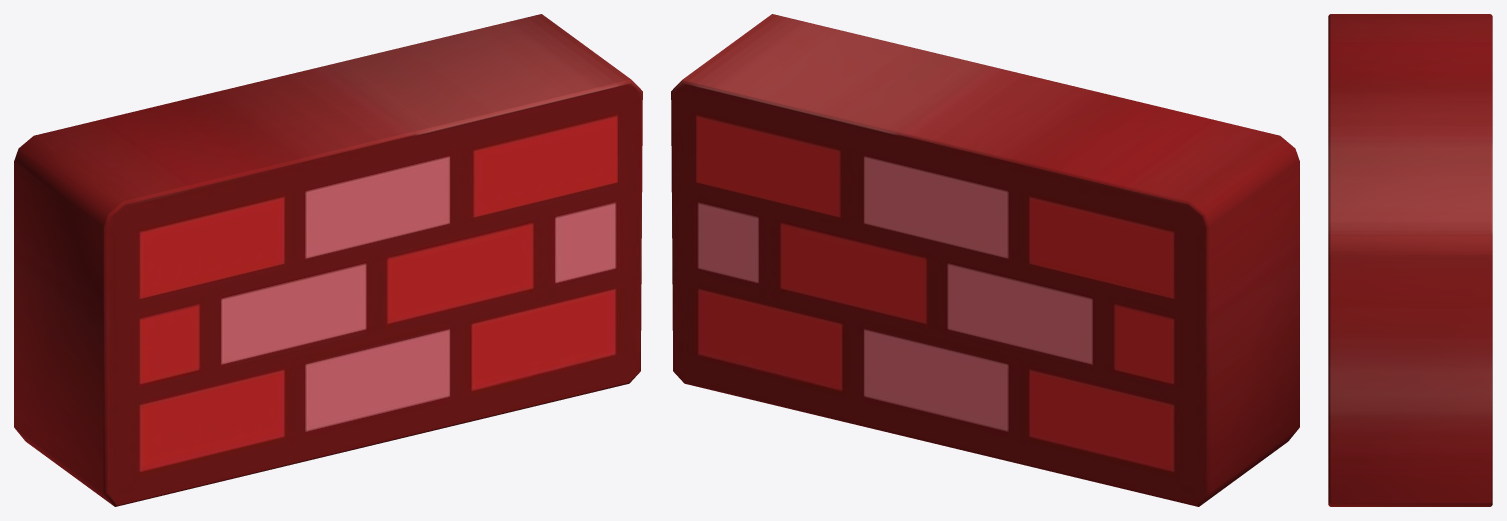
The model's file is firewall.glb.
The picture shows the model from 3 angles, left to right: view 1: azimuth 30°, elevation 25°; view 2: azimuth 150°, elevation 25°; view 3: azimuth 270°, elevation 25°; orthographic projection. The views are drawn at different scales.
Parts seen in each view (by area): view 1: Untitled; view 2: Untitled; view 3: Untitled.
Part boxes in pixels (left/top/right/bottom): Untitled: left=14, top=14, right=642, bottom=506; Untitled: left=671, top=14, right=1299, bottom=506; Untitled: left=1328, top=14, right=1492, bottom=506.
Size of the model in its own units: 0.4196 by 0.2274 by 0.124.
Materials: 1 (1 with a texture image).
